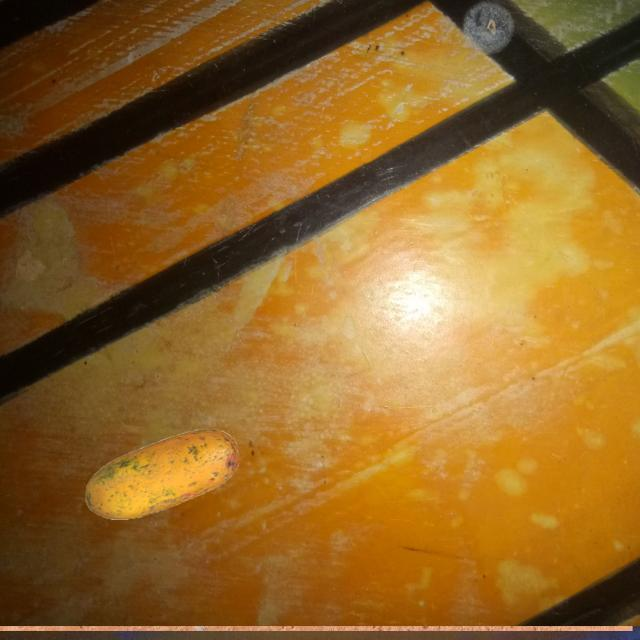Pepaya rippen: (77, 434, 242, 527)
